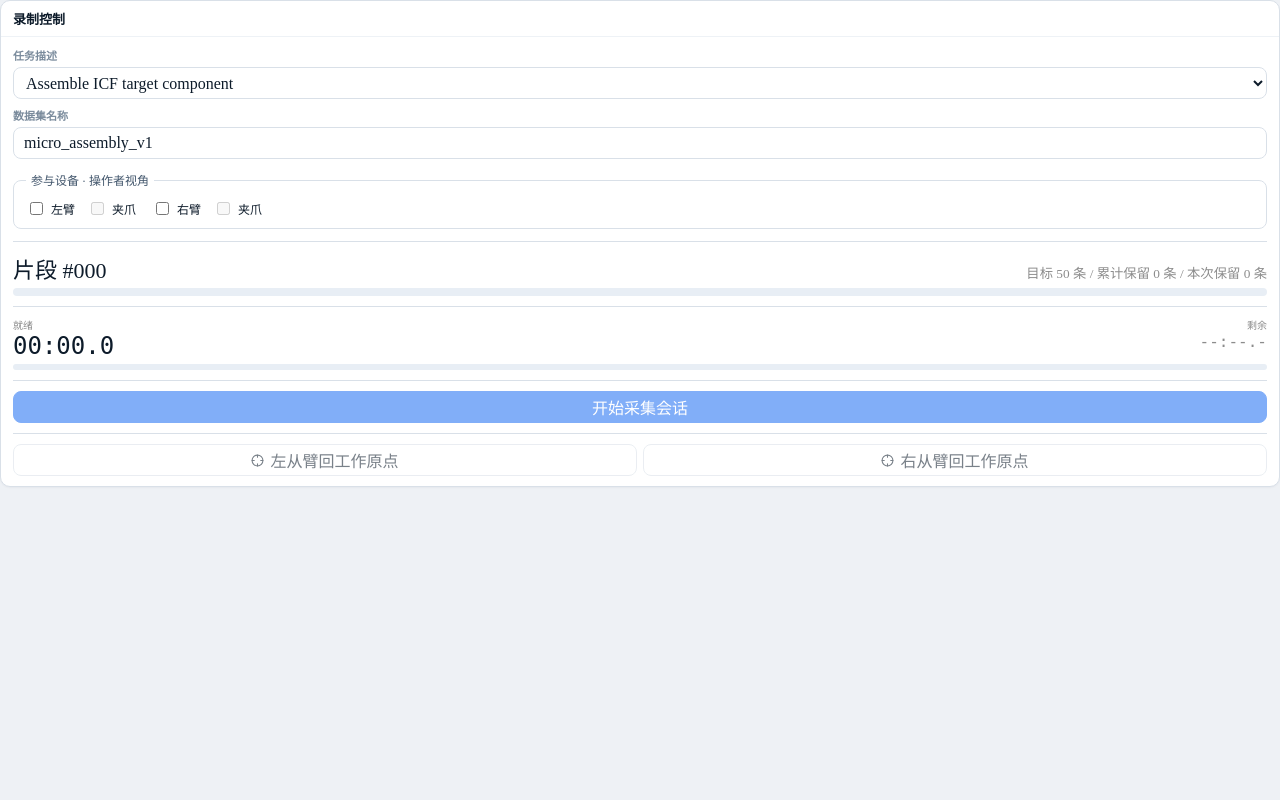
Test: AppStation M0 frontend › shows persistent record start error DATASET_DIRECTORY_CONFLICT with logs closed and clears it on retry
Expected: the button "开始采集会话" is disabled, x1=13 y1=391 x2=1267 y2=423
Click the checkbox labelled "右臂" at (162, 208), box x1=156 y1=202 x2=169 y2=215
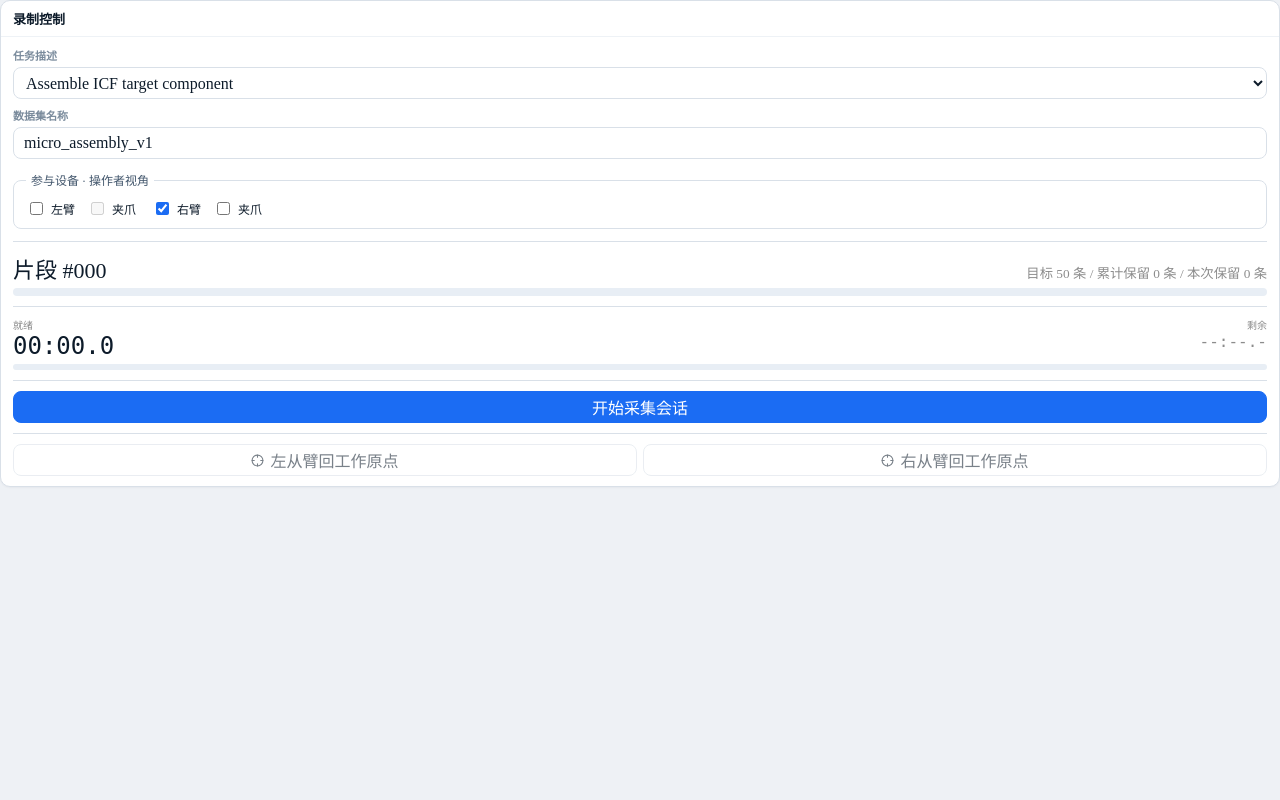
Click the button "开始采集会话" at (640, 407), box x1=13 y1=391 x2=1267 y2=423
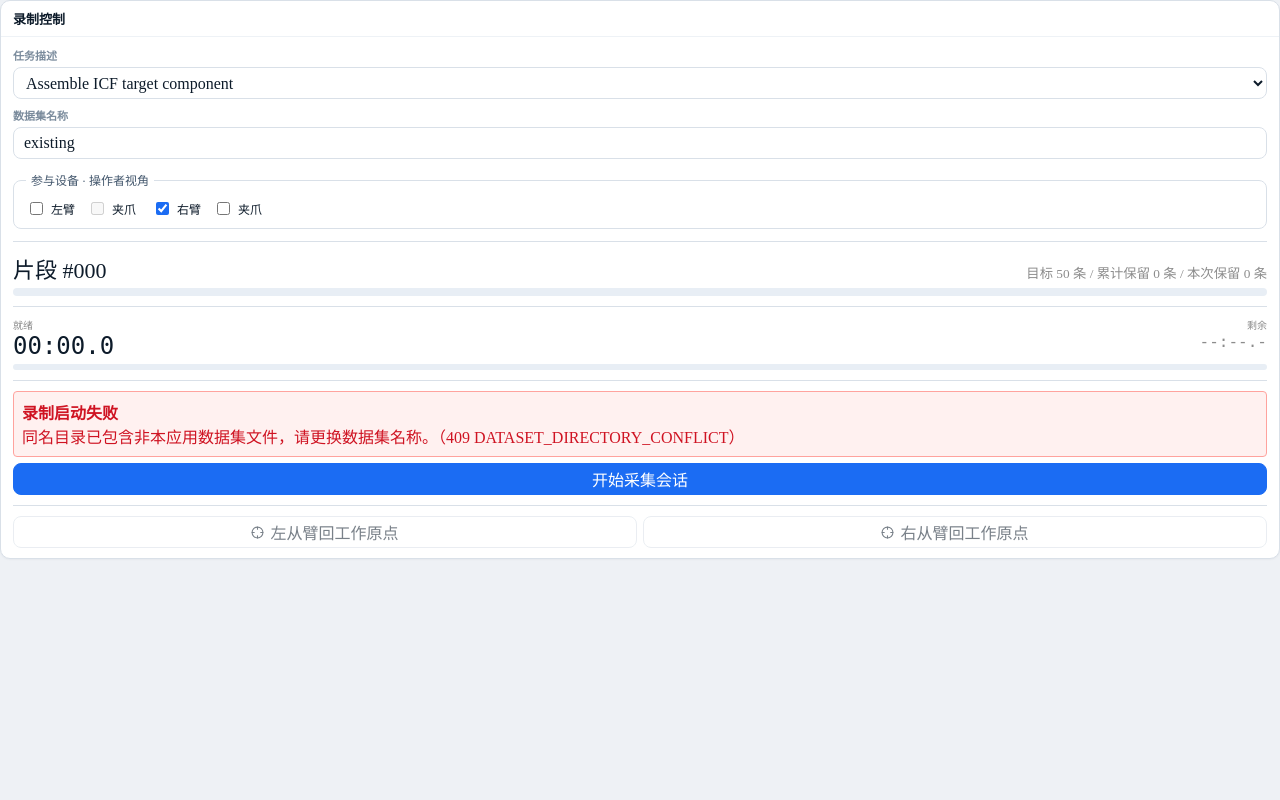
Expected: the button "开始采集会话" is enabled
Expected: the message shows "同名目录已包含非本应用数据集文件，请更换数据集名称。", x1=22 y1=429 x2=744 y2=446
Click the button "开始采集会话" at (640, 479), box x1=13 y1=463 x2=1267 y2=495
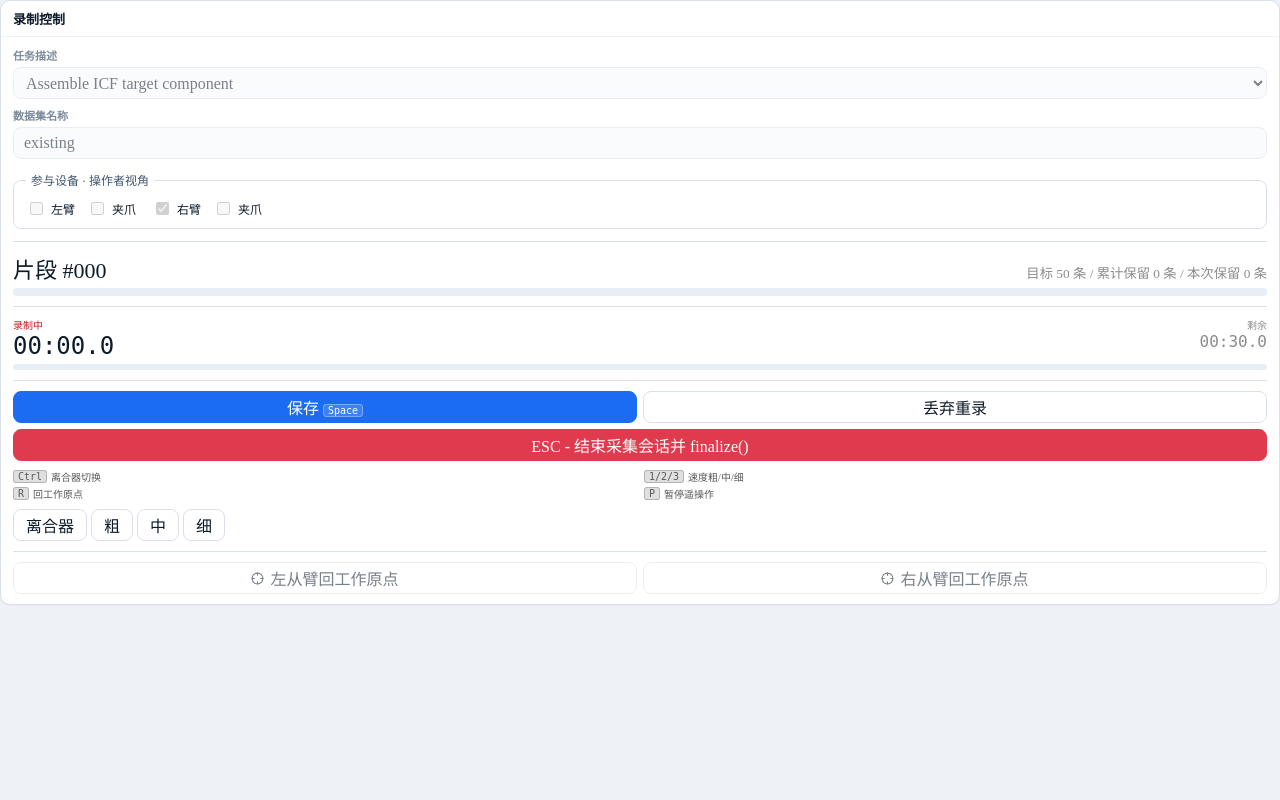
Expected: the message "录制启动失败 同名目录已包含非本应用数据集文件，请更换数据集名称。（409 DATASET_DIRECTORY_CONFLICT）" is gone
